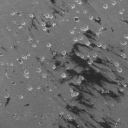corrosion: (69, 89, 79, 97), (41, 22, 48, 31), (77, 75, 84, 84), (17, 92, 24, 100), (120, 39, 128, 46), (24, 70, 30, 79), (80, 26, 89, 32), (73, 16, 80, 23), (113, 59, 120, 66), (120, 52, 127, 59), (116, 67, 123, 73), (96, 41, 102, 48), (26, 85, 33, 91), (88, 14, 94, 21), (46, 42, 52, 48), (44, 13, 50, 19), (69, 28, 75, 34), (103, 4, 109, 10), (91, 52, 97, 58), (70, 3, 76, 9), (4, 92, 10, 98), (61, 49, 66, 56), (60, 73, 66, 78), (36, 67, 41, 73), (20, 21, 26, 26), (32, 43, 37, 49), (9, 61, 14, 67), (22, 54, 27, 60), (40, 55, 45, 61), (52, 64, 57, 70), (72, 37, 78, 42), (85, 40, 90, 46), (118, 10, 124, 15), (28, 13, 33, 18), (11, 11, 16, 16), (36, 85, 41, 90), (111, 1, 116, 6), (119, 87, 124, 92), (52, 22, 56, 27), (77, 1, 82, 5)
